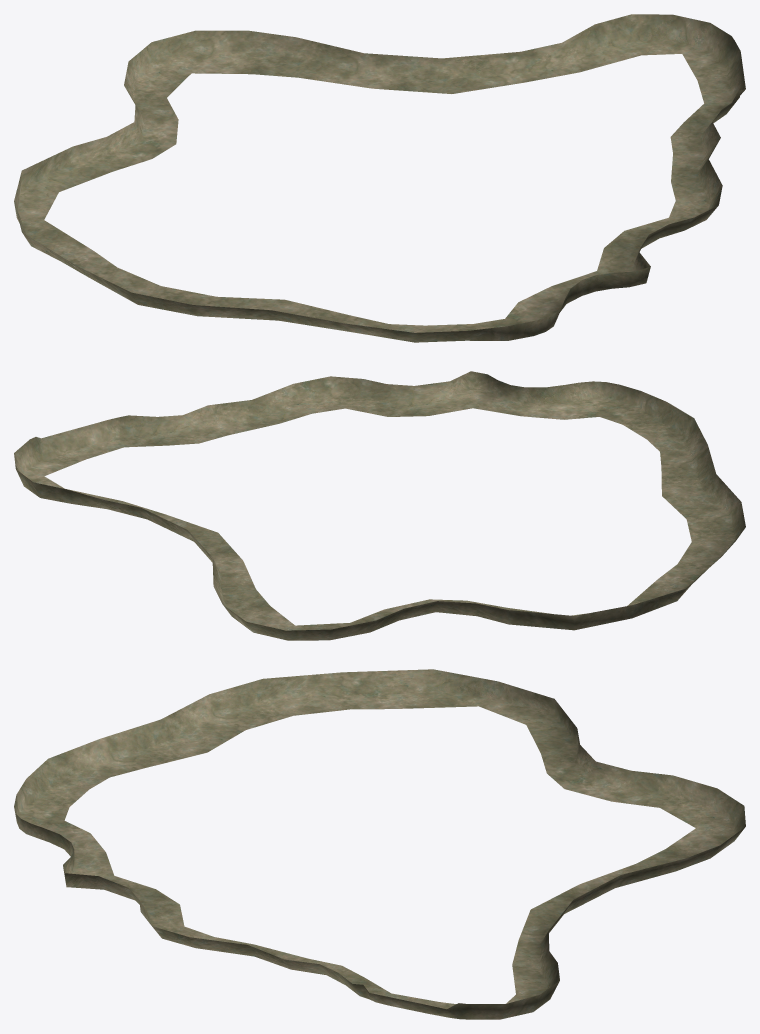
Rendered from EKH_CAVERNS_PS_CA_SM_CAVE_TRIM647475.fbx.
3 views of the same model, one above another, from view 1: azimuth 30°, elevation 25°; view 2: azimuth 150°, elevation 25°; view 3: azimuth 270°, elevation 25° (orthographic). The views are drawn at different scales.
Visible parts, largest first — view 1: EKH_CAVERNS_PS_CA_SM_CAVE_TRIM647475; view 2: EKH_CAVERNS_PS_CA_SM_CAVE_TRIM647475; view 3: EKH_CAVERNS_PS_CA_SM_CAVE_TRIM647475.
Part boxes in pixels (bbox=[...]): EKH_CAVERNS_PS_CA_SM_CAVE_TRIM647475: bbox=[14, 14, 745, 342]; EKH_CAVERNS_PS_CA_SM_CAVE_TRIM647475: bbox=[14, 371, 745, 640]; EKH_CAVERNS_PS_CA_SM_CAVE_TRIM647475: bbox=[14, 669, 745, 1019].
Bounding box in the file's own units: 249880 × 7171 × 227354.
Materials: 1 (1 with a texture image).
